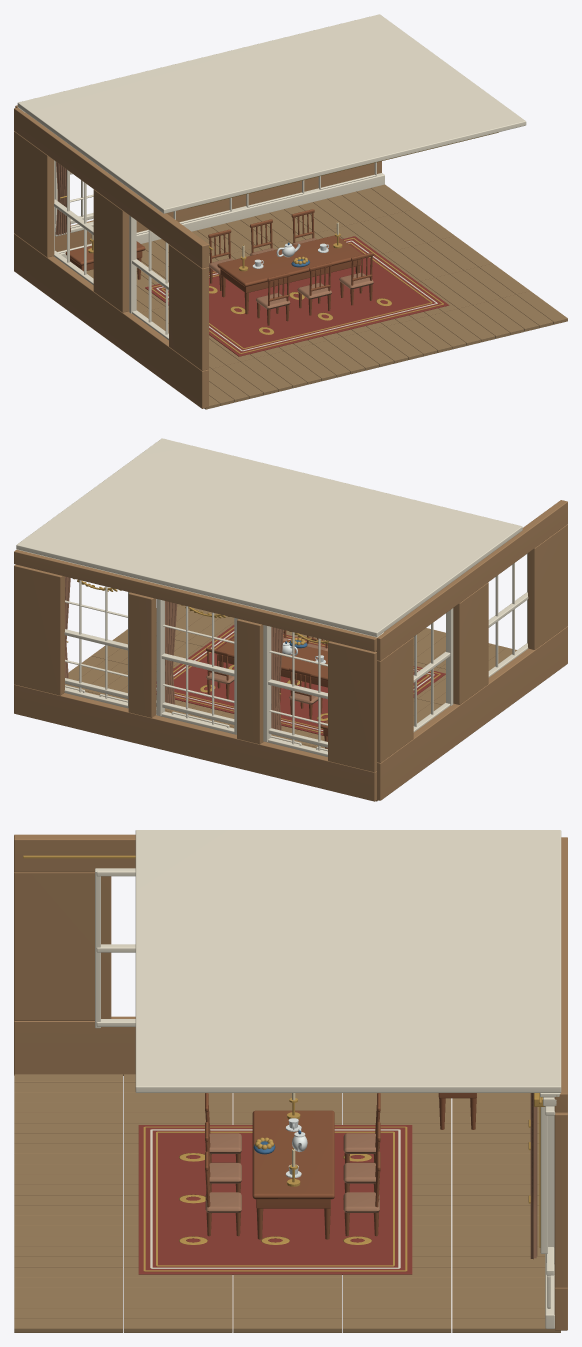
File: window.glb
3 views of the same model, one above another, from view 1: azimuth 30°, elevation 25°; view 2: azimuth 150°, elevation 25°; view 3: azimuth 270°, elevation 25° (orthographic). The views are drawn at different scales.
Parts seen in each view (by area): view 1: Plaster ceiling, Woven carpet, Left wall sill, Left wall lintel, Left wall pier.002, Left wall pier, Left wall pier.001, Window wall below sill, Mahogany tabletop, Back moulding, Table apron, Window casing.001 (+39 smaller); view 2: Plaster ceiling, Window wall below sill, Left wall sill, Window pier.003, Window pier, Window wall above lintel, Left wall lintel, Left wall pier, Woven carpet, Left wall pier.002, Left wall pier.001, Window pier.002 (+11 smaller); view 3: Plaster ceiling, Woven carpet, Left wall pier, Mahogany tabletop, Left wall sill, Left wall lintel, Window pier.003, Window wall above lintel, Individual oak floorboard.121, Individual oak floorboard.123, Individual oak floorboard.120, Individual oak floorboard.122 (+79 smaller).
Boxes of the visible parts, bbox=[...] form: Plaster ceiling: bbox=[17, 14, 526, 213]; Woven carpet: bbox=[145, 236, 449, 356]; Left wall sill: bbox=[14, 233, 208, 408]; Left wall lintel: bbox=[14, 107, 208, 268]; Left wall pier.002: bbox=[14, 131, 54, 257]; Left wall pier: bbox=[169, 244, 208, 370]; Left wall pier.001: bbox=[93, 189, 129, 312]; Window wall below sill: bbox=[55, 161, 381, 251]; Mahogany tabletop: bbox=[217, 235, 362, 286]; Back moulding: bbox=[59, 173, 384, 258]; Table apron: bbox=[220, 259, 360, 293]; Window casing.001: bbox=[129, 215, 136, 313]; Plaster ceiling: bbox=[16, 438, 522, 636]; Window wall below sill: bbox=[14, 684, 376, 801]; Left wall sill: bbox=[377, 626, 567, 800]; Window pier.003: bbox=[14, 564, 64, 695]; Window pier: bbox=[328, 641, 376, 772]; Window wall above lintel: bbox=[14, 549, 376, 651]; Left wall lintel: bbox=[375, 500, 567, 660]; Left wall pier: bbox=[528, 524, 567, 649]; Woven carpet: bbox=[156, 625, 445, 735]; Left wall pier.002: bbox=[377, 637, 413, 762]; Left wall pier.001: bbox=[453, 582, 488, 704]; Window pier.002: bbox=[128, 592, 156, 717]; Plaster ceiling: bbox=[135, 830, 561, 1092]; Woven carpet: bbox=[138, 1125, 412, 1274]; Left wall pier: bbox=[14, 872, 111, 1020]; Mahogany tabletop: bbox=[252, 1110, 334, 1199]; Left wall sill: bbox=[14, 1016, 135, 1075]; Left wall lintel: bbox=[14, 834, 135, 872]; Window pier.003: bbox=[554, 1112, 567, 1287]; Window wall above lintel: bbox=[554, 837, 567, 1112]; Individual oak floorboard.121: bbox=[123, 1318, 232, 1332]; Individual oak floorboard.123: bbox=[342, 1318, 451, 1332]; Individual oak floorboard.120: bbox=[14, 1318, 122, 1332]; Individual oak floorboard.122: bbox=[233, 1318, 341, 1332].
Size of the model in its own units: 10.1 by 4.47 by 9.11.
